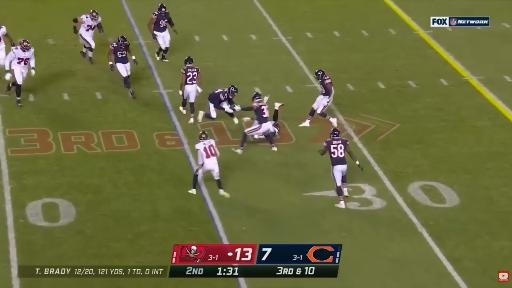Helmet: (19, 39, 31, 52), (227, 85, 238, 97), (118, 36, 129, 47), (157, 3, 167, 14), (330, 128, 340, 138), (315, 70, 325, 80), (90, 10, 99, 21), (252, 92, 262, 101), (199, 131, 208, 140), (185, 56, 193, 66), (274, 122, 280, 135)
Jersey: (5, 47, 34, 70), (324, 139, 348, 166), (195, 139, 218, 166), (79, 15, 101, 37), (208, 89, 232, 107), (152, 12, 173, 32), (110, 43, 129, 63), (253, 102, 268, 124), (182, 67, 199, 85), (320, 76, 332, 96), (0, 26, 6, 48)
Player: (319, 128, 362, 207), (233, 93, 277, 154), (189, 131, 229, 197), (300, 70, 337, 127), (5, 40, 35, 106), (108, 36, 137, 98), (148, 4, 177, 61), (73, 10, 103, 63), (198, 85, 238, 123), (180, 56, 202, 123), (253, 103, 283, 138), (0, 26, 14, 66)
